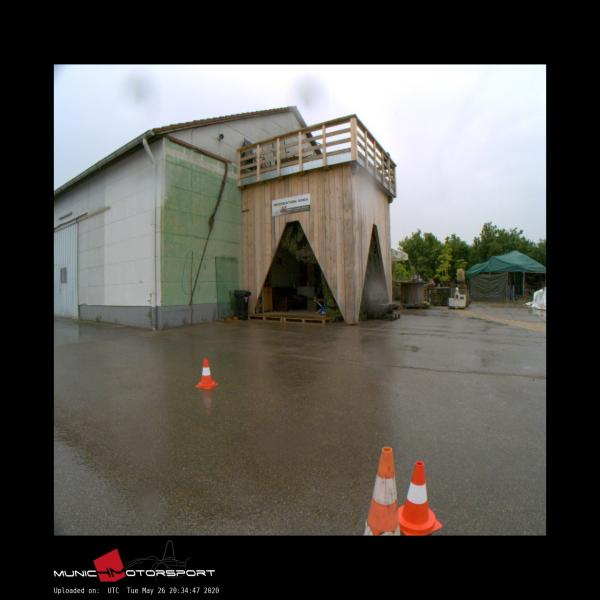orange_cone: (398, 462, 442, 535), (195, 358, 217, 387)
